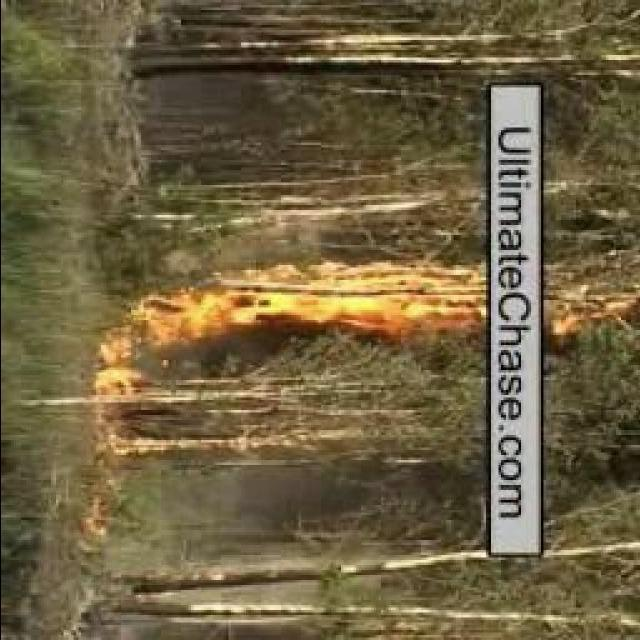Fire: (210, 268, 480, 330), (79, 288, 192, 416), (544, 294, 632, 334)
